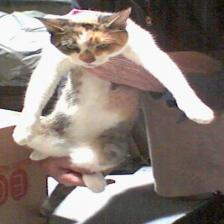cat: (33, 7, 148, 71)
